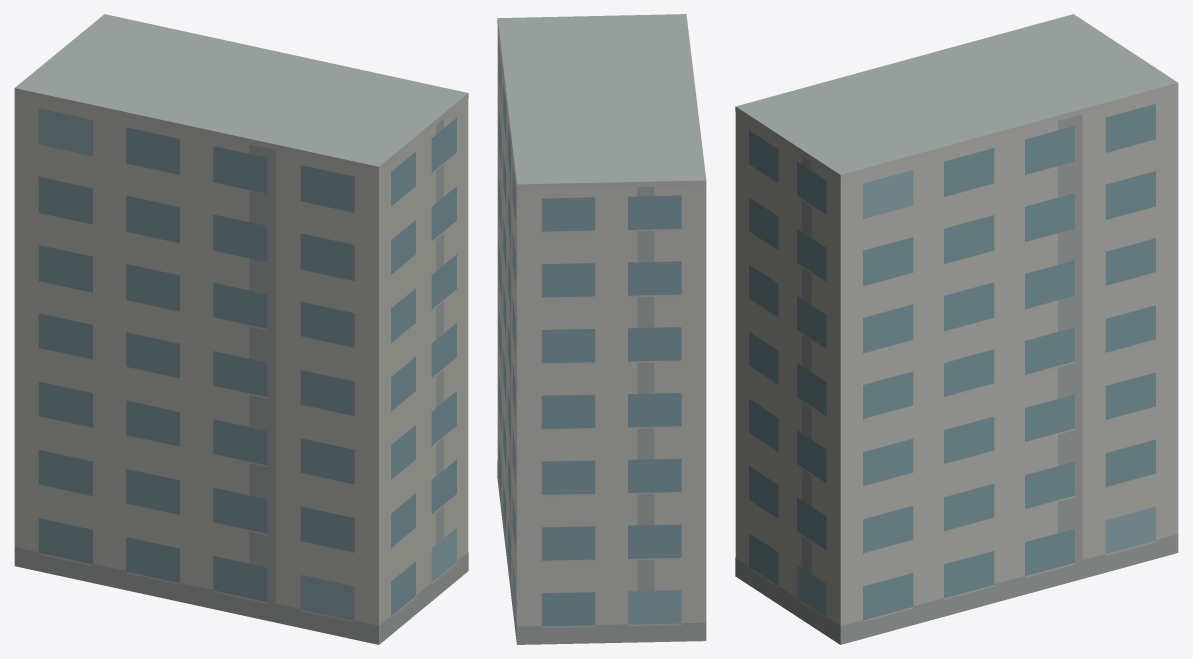
The model's file is survey-upis-32761544.glb.
3 renders of one model, left to right at view 1: azimuth 30°, elevation 25°; view 2: azimuth 150°, elevation 25°; view 3: azimuth 270°, elevation 25°, orthographic. The views are drawn at different scales.
Visible parts, largest first — view 1: survey-upis-32761544.tmp; view 2: survey-upis-32761544.tmp; view 3: survey-upis-32761544.tmp.
Part boxes in pixels (bbox=[...]): survey-upis-32761544.tmp: bbox=[14, 14, 468, 644]; survey-upis-32761544.tmp: bbox=[497, 14, 706, 644]; survey-upis-32761544.tmp: bbox=[735, 14, 1178, 644].
Size of the model in its own units: 15.68 by 21.35 by 18.24.
